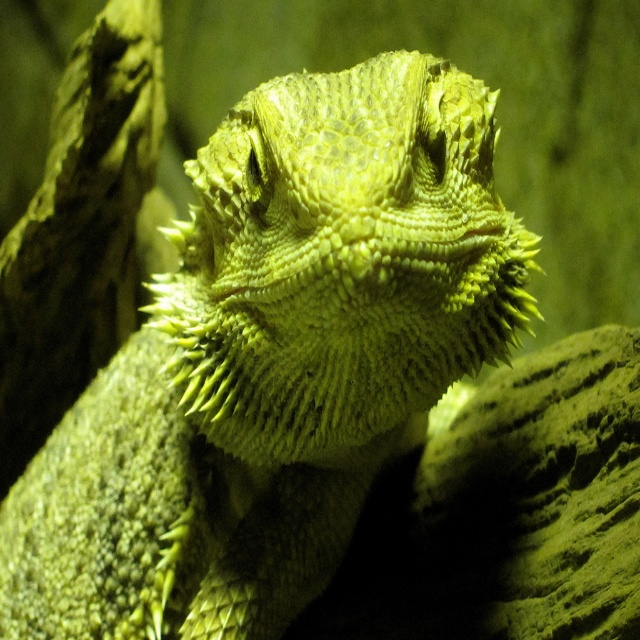Lizard: (0, 46, 544, 639)
